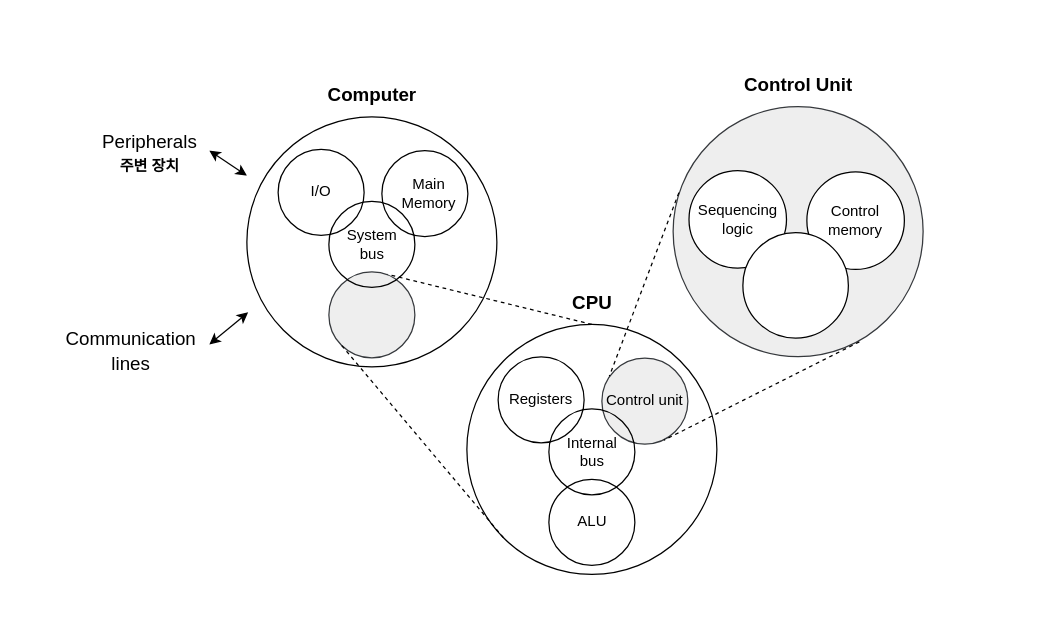
This 1059x630 diagram has some shape labels left out. Here are the shapes that lost their labels. From the top down, the centre of each, then its label:
point (795, 284): Control unit registers and decoders
point (371, 314): Central Processing Unit
